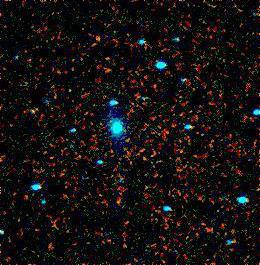star: (83, 23, 113, 53)
